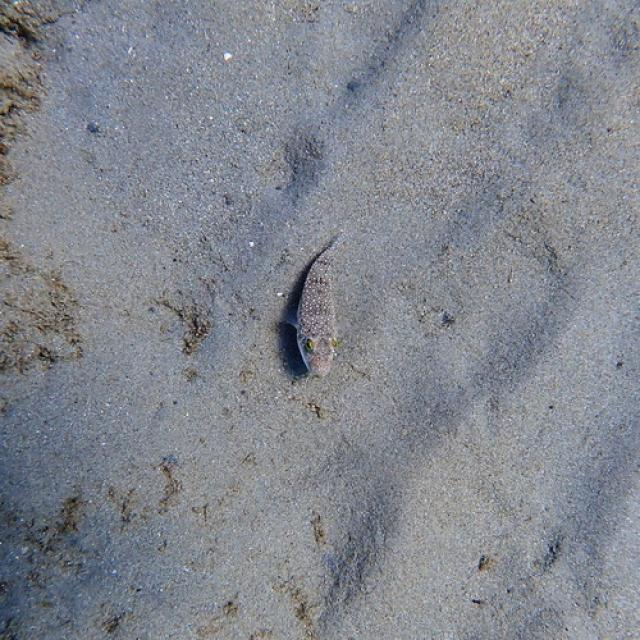Balik: (296, 236, 341, 376)
